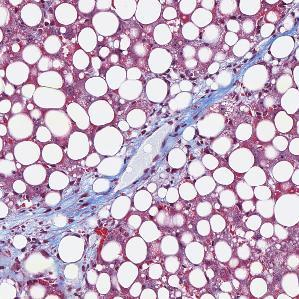fibrosis: (16, 189, 110, 262), (119, 114, 202, 189)
